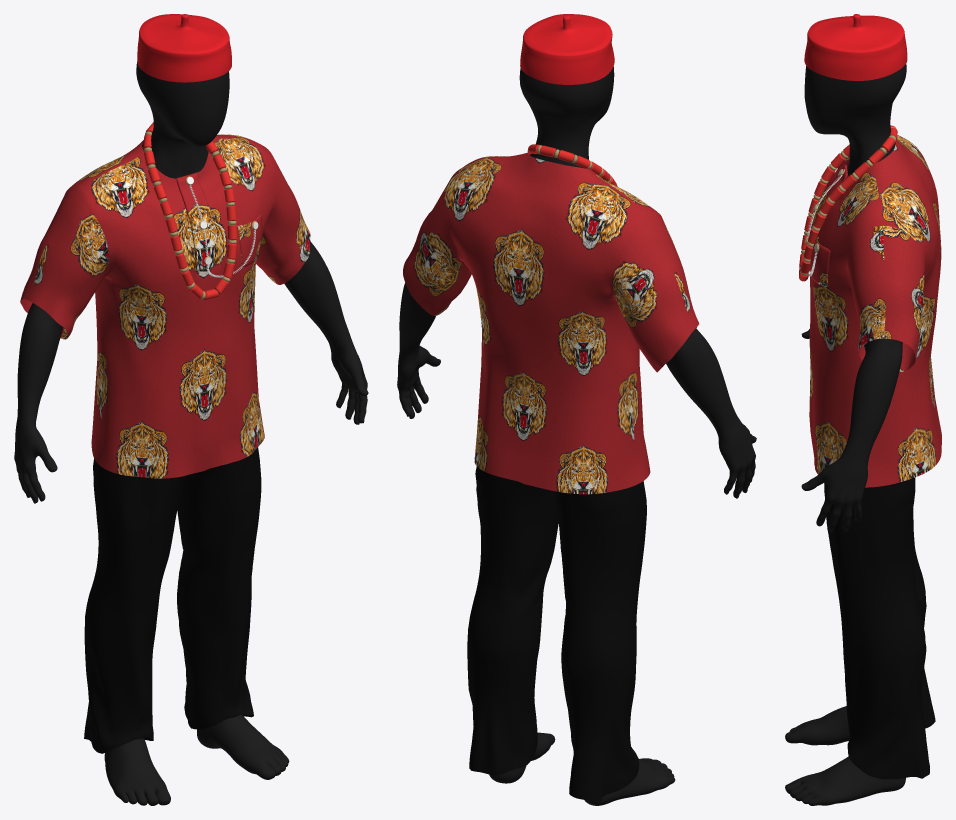
Rendered from isi_agu_igbo_traditional_wear.glb.
The picture shows the model from 3 angles, left to right: view 1: azimuth 30°, elevation 25°; view 2: azimuth 150°, elevation 25°; view 3: azimuth 270°, elevation 25°; orthographic projection.
Visible parts, largest first — view 1: Isi Aju, Trouser, Man, Cap, Bee, Isi Aju.001; view 2: Isi Aju, Trouser, Man, Cap, Bee; view 3: Isi Aju, Trouser, Man, Cap, Bee, Isi Aju.001.
Boxes of the visible parts, x1,y1,x2,y2 form: Isi Aju: (20, 134, 310, 478); Trouser: (84, 447, 261, 753); Man: (14, 62, 368, 805); Cap: (137, 14, 231, 82); Bee: (143, 122, 237, 300); Isi Aju.001: (237, 214, 262, 267); Isi Aju: (403, 152, 699, 494); Trouser: (467, 466, 646, 800); Man: (397, 66, 756, 805); Cap: (520, 14, 614, 84); Bee: (527, 144, 617, 186); Isi Aju: (809, 135, 941, 487); Trouser: (824, 477, 935, 779); Man: (785, 64, 906, 805); Cap: (804, 14, 907, 80); Bee: (799, 125, 897, 281); Isi Aju.001: (811, 237, 830, 286).
Bounding box in the file's own units: 0.9067 × 1.9 × 0.3575.
9 materials, 1 textured.
